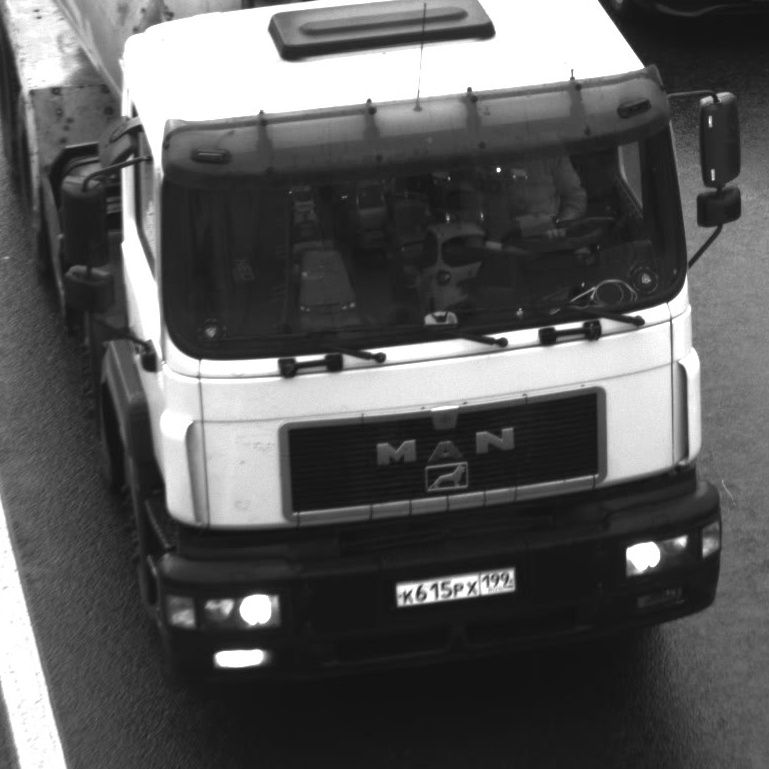plate: (383, 553, 525, 612)
